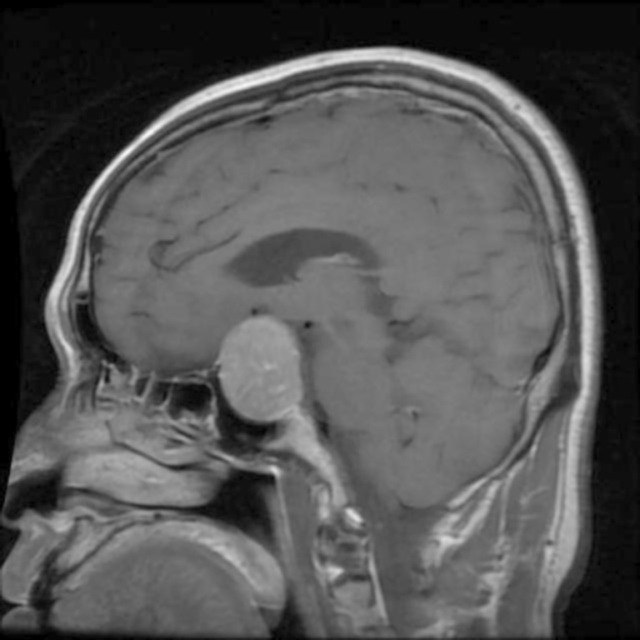no tumor: (218, 315, 308, 425)
